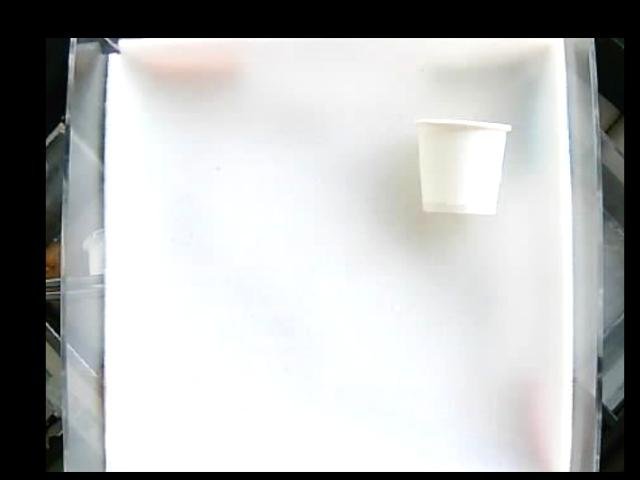Cup: (415, 116, 512, 215)
